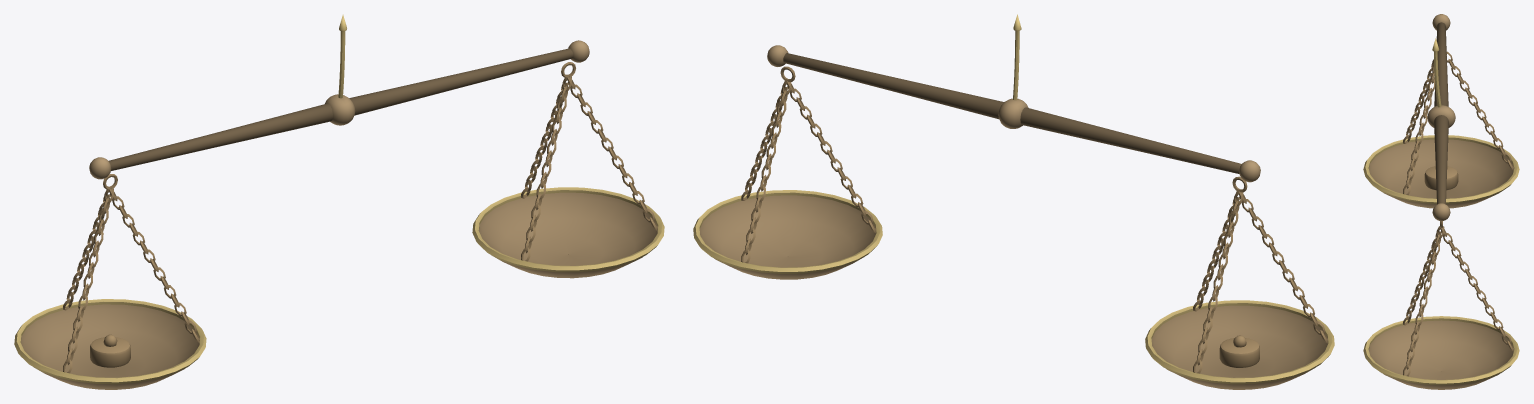
Rendered from obj_kit_scalebeam.glb.
3 views of the same model, side by side, from view 1: azimuth 30°, elevation 25°; view 2: azimuth 150°, elevation 25°; view 3: azimuth 270°, elevation 25° (orthographic). The views are drawn at different scales.
Parts seen in each view (by area): view 1: pan.001, pan, beamL, beamR, Torus.057, Torus.005, chain.001, chain.004, chain.002, chain.005, Cylinder.006, chain.003 (+2 smaller); view 2: pan.001, pan, beamL, beamR, Torus.005, Torus.057, chain, chain.003, chain.001, chain.004, Cylinder.006, chain.002 (+2 smaller); view 3: pan.001, pan, Torus.057, Torus.005, beamR, chain.005, beamL, chain.003, chain.002, chain, chain.004, Cylinder.006 (+5 smaller).
Boxes of the visible parts, left/top/right/bottom form: pan.001: left=479, top=192, right=657, bottom=278; pan: left=21, top=304, right=199, bottom=389; beamL: left=108, top=103, right=332, bottom=170; beamR: left=349, top=48, right=573, bottom=115; Torus.057: left=472, top=187, right=664, bottom=272; Torus.005: left=14, top=299, right=206, bottom=384; chain.001: left=63, top=188, right=113, bottom=373; chain.004: left=521, top=77, right=571, bottom=261; chain.002: left=109, top=189, right=199, bottom=342; chain.005: left=567, top=77, right=657, bottom=230; Cylinder.006: left=90, top=337, right=130, bottom=367; chain.003: left=521, top=76, right=571, bottom=198; pan.001: left=699, top=195, right=876, bottom=279; pan: left=1151, top=305, right=1327, bottom=389; beamL: left=1020, top=107, right=1241, bottom=173; beamR: left=783, top=53, right=1003, bottom=119; Torus.005: left=1145, top=300, right=1334, bottom=384; Torus.057: left=693, top=190, right=882, bottom=273; chain: left=1193, top=191, right=1243, bottom=373; chain.003: left=741, top=81, right=791, bottom=263; chain.001: left=1238, top=191, right=1328, bottom=343; chain.004: left=786, top=80, right=876, bottom=233; Cylinder.006: left=1219, top=338, right=1259, bottom=367; chain.002: left=1193, top=191, right=1240, bottom=311; pan.001: left=1369, top=320, right=1513, bottom=389; pan: left=1369, top=139, right=1513, bottom=208; Torus.057: left=1363, top=316, right=1519, bottom=385; Torus.005: left=1363, top=135, right=1519, bottom=203; beamR: left=1434, top=115, right=1448, bottom=204; chain.005: left=1403, top=226, right=1444, bottom=376; beamL: left=1434, top=22, right=1448, bottom=106; chain.003: left=1440, top=228, right=1514, bottom=351; chain.002: left=1403, top=65, right=1434, bottom=195; chain: left=1446, top=51, right=1514, bottom=170; chain.004: left=1403, top=226, right=1444, bottom=325; Cylinder.006: left=1424, top=166, right=1458, bottom=190.
Bounding box in the file's own units: 1.23 × 0.577 × 0.328.
